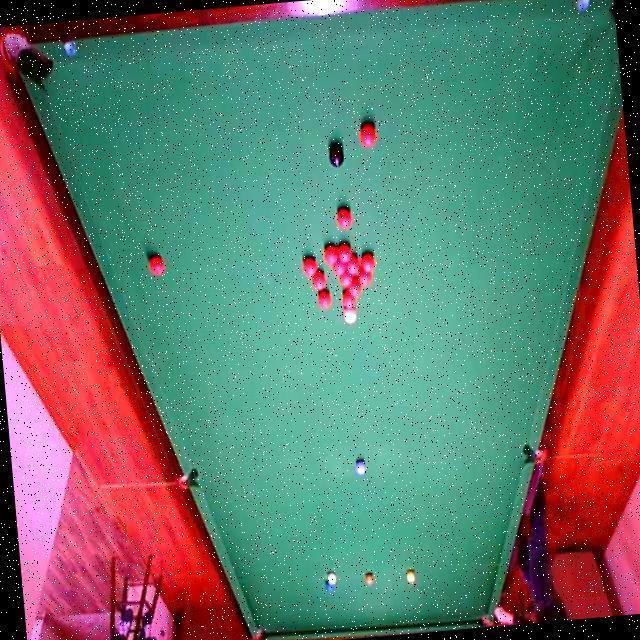Ball: (326, 142, 348, 167), (148, 254, 165, 278), (361, 125, 378, 148), (336, 241, 352, 263), (336, 207, 351, 230), (324, 245, 339, 264), (343, 308, 358, 326), (346, 257, 360, 275), (303, 258, 317, 275), (311, 272, 325, 289), (318, 293, 332, 309), (404, 568, 416, 586), (342, 294, 356, 309), (355, 460, 367, 477), (333, 261, 347, 275), (348, 282, 361, 297), (354, 272, 367, 286), (340, 272, 353, 286), (361, 257, 373, 272), (364, 571, 375, 586), (327, 570, 338, 585), (324, 579, 334, 593)
